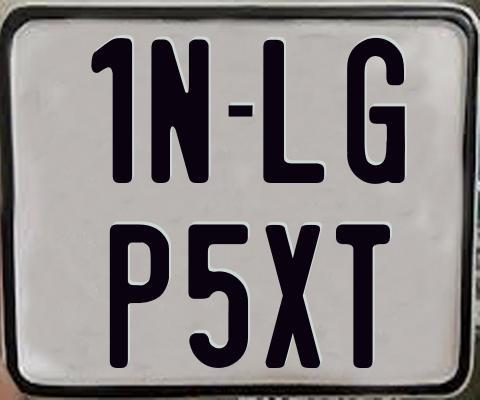1: (90, 36, 131, 186)
5: (187, 223, 250, 372)
G: (346, 37, 404, 187)
L: (262, 38, 329, 186)
N: (150, 39, 214, 188)
P: (108, 224, 169, 373)
T: (334, 222, 391, 366)
X: (262, 223, 323, 369)
